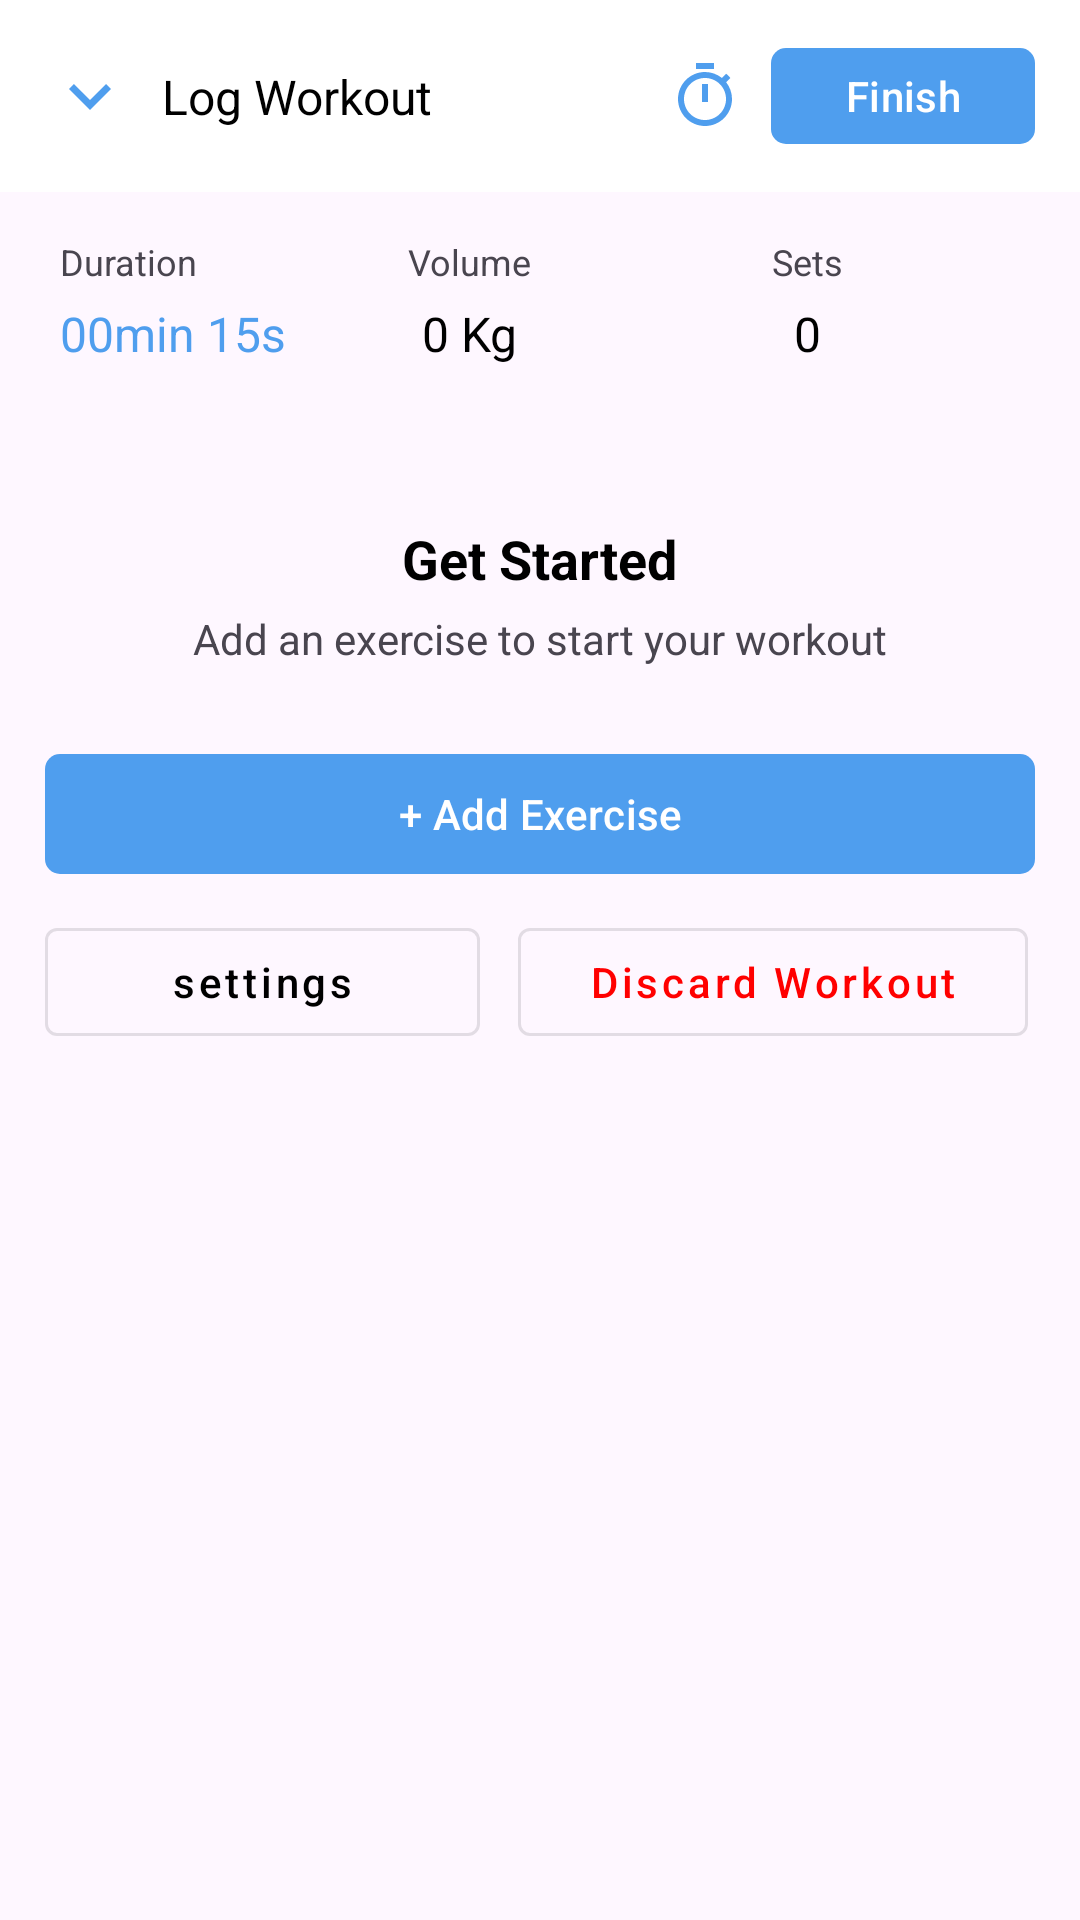

Screen size 1080px×1920px. Icon name, then its center in pixels as (x=x, y=y):
arrow down: (x=90, y=97)
timer: (x=705, y=94)
